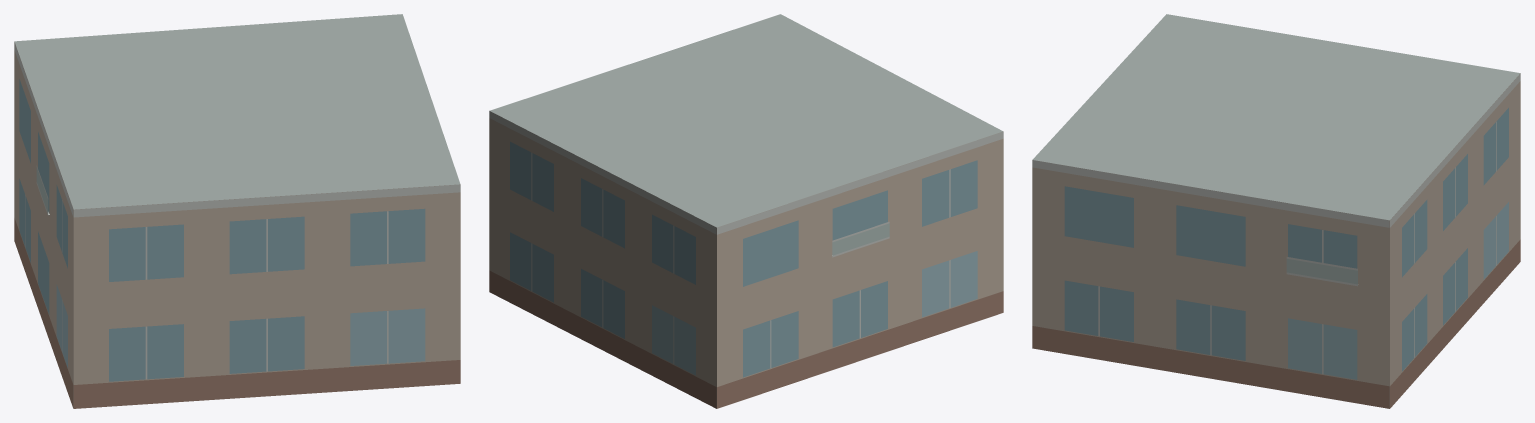
Rendered from survey-upis-32878021.glb.
The picture shows the model from 3 angles, left to right: view 1: azimuth 30°, elevation 25°; view 2: azimuth 150°, elevation 25°; view 3: azimuth 270°, elevation 25°; orthographic projection. The views are drawn at different scales.
Visible parts, largest first — view 1: survey-upis-32878021.tmp; view 2: survey-upis-32878021.tmp; view 3: survey-upis-32878021.tmp.
Part boxes in pixels (box(x1,y1,x2,y2)): survey-upis-32878021.tmp: box(14, 14, 460, 408); survey-upis-32878021.tmp: box(489, 14, 1003, 408); survey-upis-32878021.tmp: box(1032, 14, 1520, 408).
Size of the model in its own units: 14.33 by 6.1 by 14.33.
